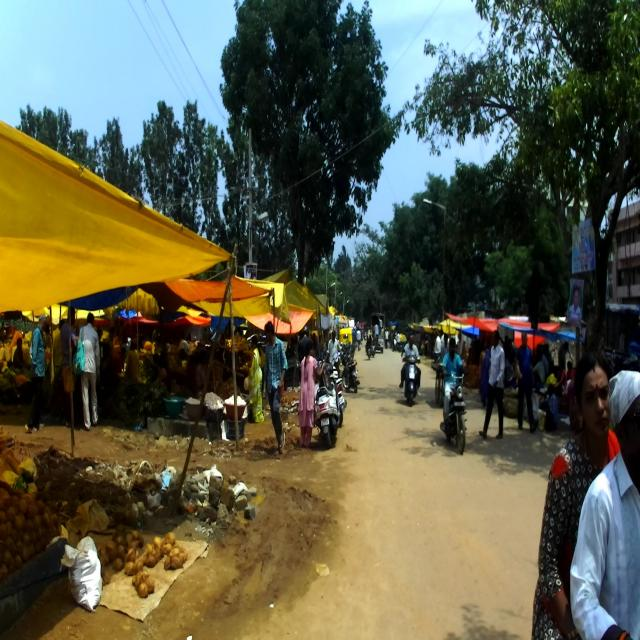motorcycle: (439, 356, 471, 454)
scooter: (314, 352, 340, 448), (402, 347, 423, 406)
